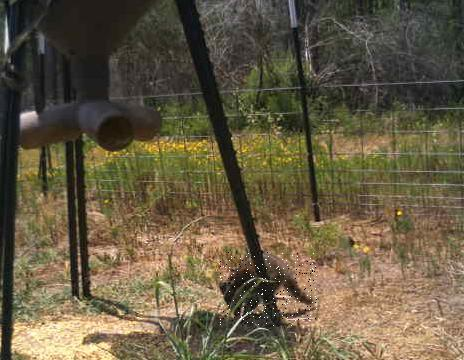Raccoon: (220, 252, 317, 326)
